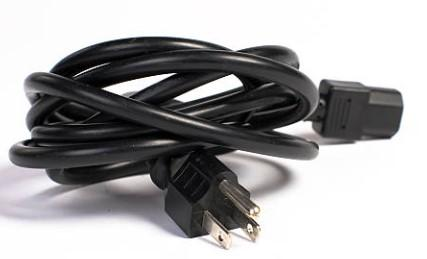cable: (9, 37, 404, 247)
